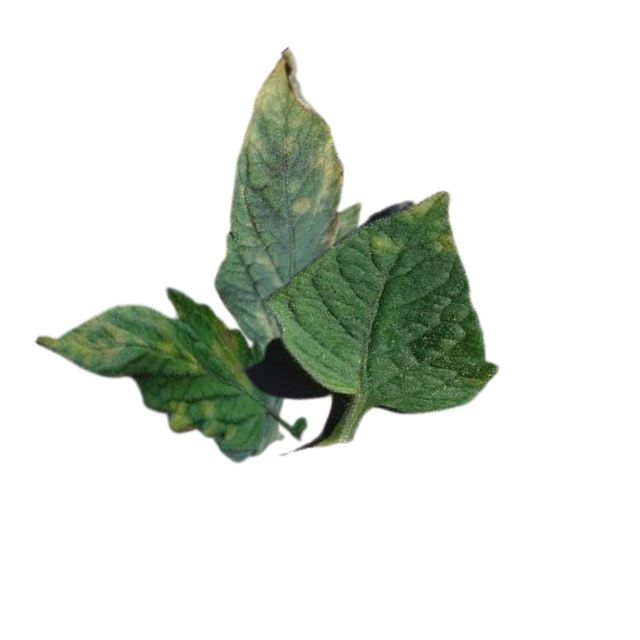Leaf_Mold: (241, 42, 314, 160), (30, 319, 132, 365), (210, 314, 251, 391), (164, 399, 236, 441), (398, 187, 451, 226), (314, 133, 345, 193), (287, 191, 313, 217), (369, 232, 396, 254), (430, 230, 456, 252)
